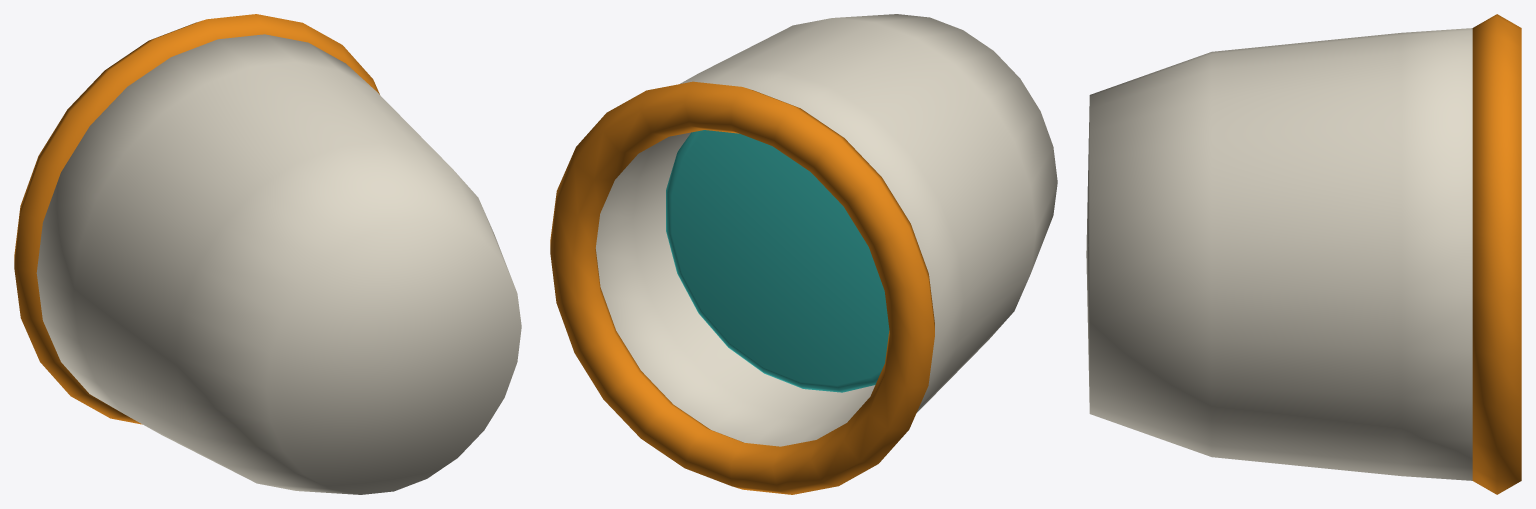
File: BedroomNightstandGlass_Premium.fbx
3 views of the same model, side by side, from view 1: azimuth 30°, elevation 25°; view 2: azimuth 150°, elevation 25°; view 3: azimuth 270°, elevation 25° (orthographic). The views are drawn at different scales.
Visible parts, largest first — view 1: BedroomNightstandGlass; view 2: BedroomNightstandGlass; view 3: BedroomNightstandGlass.
Part boxes in pixels (box(x1,y1,x2,y2)): BedroomNightstandGlass: box(14, 14, 521, 494); BedroomNightstandGlass: box(550, 14, 1057, 494); BedroomNightstandGlass: box(1086, 14, 1521, 494).
Size of the model in its own units: 0.154 by 0.154 by 0.1388.
